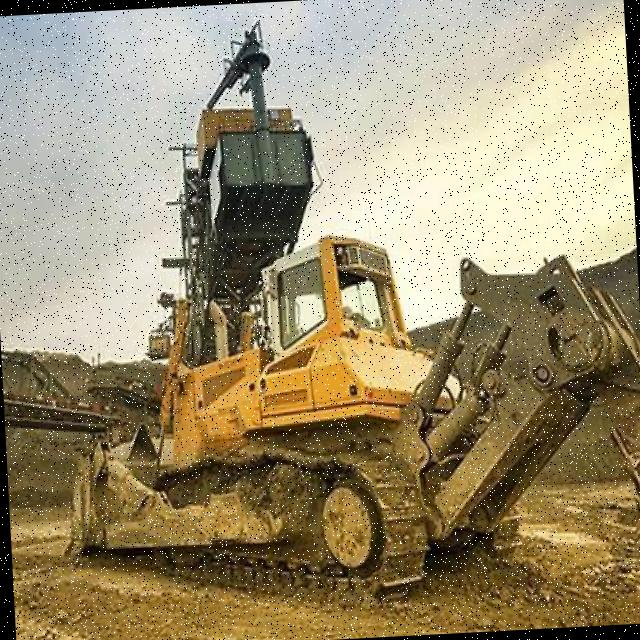Bulldozer: (42, 177, 640, 611)
